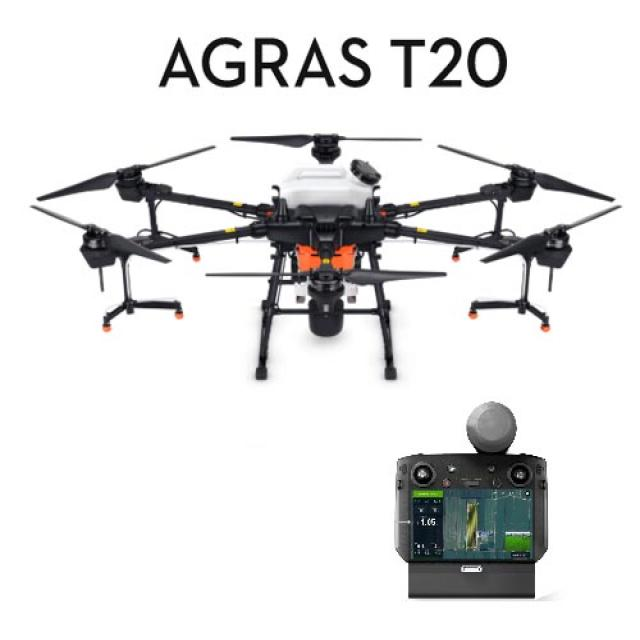drone: (8, 122, 640, 374)
